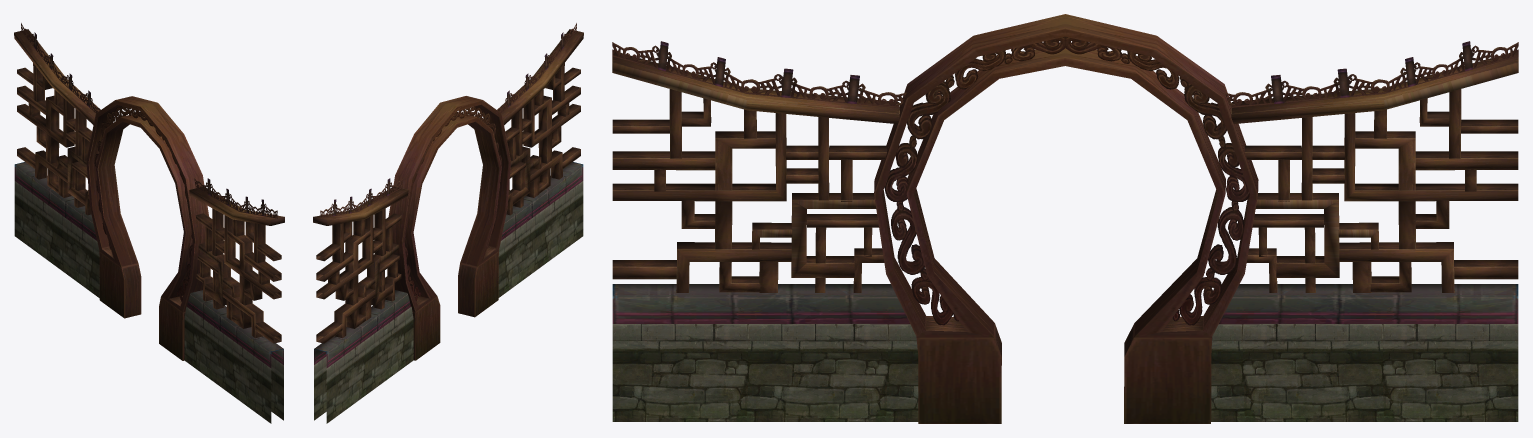
File: environment_building_menlan_02_a.FBX
The picture shows the model from 3 angles, left to right: view 1: azimuth 30°, elevation 25°; view 2: azimuth 150°, elevation 25°; view 3: azimuth 270°, elevation 25°; orthographic projection. The views are drawn at different scales.
Visible parts, largest first — view 1: environment_building_menlan_02_a1, environment_building_menlan_02_c1, environment_building_menlan_02_c02, environment_building_menlan_02_d1_ncl1_1, environment_building_menlan_02_d02, environment_building_menlan_02_d1, environment_building_menlan_02_d03, environment_building_menlan_02_b1, environment_building_menlan_02_b02; view 2: environment_building_menlan_02_a1, environment_building_menlan_02_c02, environment_building_menlan_02_c1, environment_building_menlan_02_d02, environment_building_menlan_02_d1_ncl1_1, environment_building_menlan_02_d03, environment_building_menlan_02_d1, environment_building_menlan_02_b02, environment_building_menlan_02_b1; view 3: environment_building_menlan_02_a1, environment_building_menlan_02_c1, environment_building_menlan_02_c02, environment_building_menlan_02_d02, environment_building_menlan_02_d1_ncl1_1, environment_building_menlan_02_d03, environment_building_menlan_02_d1, environment_building_menlan_02_b1, environment_building_menlan_02_b02.
Boxes of the visible parts, box(x1,y1,x2,y2) form: environment_building_menlan_02_a1: box(86, 96, 209, 360); environment_building_menlan_02_c1: box(189, 186, 284, 343); environment_building_menlan_02_c02: box(14, 29, 100, 215); environment_building_menlan_02_d1_ncl1_1: box(184, 306, 283, 423); environment_building_menlan_02_d02: box(14, 181, 99, 297); environment_building_menlan_02_d1: box(187, 290, 283, 367); environment_building_menlan_02_d03: box(14, 162, 96, 240); environment_building_menlan_02_b1: box(194, 178, 277, 218); environment_building_menlan_02_b02: box(21, 23, 100, 112); environment_building_menlan_02_a1: box(388, 96, 510, 360); environment_building_menlan_02_c02: box(313, 186, 408, 343); environment_building_menlan_02_c1: box(497, 29, 583, 215); environment_building_menlan_02_d02: box(314, 306, 413, 423); environment_building_menlan_02_d1_ncl1_1: box(498, 181, 583, 297); environment_building_menlan_02_d03: box(314, 290, 410, 367); environment_building_menlan_02_d1: box(501, 162, 583, 240); environment_building_menlan_02_b02: box(320, 178, 403, 218); environment_building_menlan_02_b1: box(497, 23, 576, 113); environment_building_menlan_02_a1: box(874, 14, 1258, 423); environment_building_menlan_02_c1: box(612, 52, 899, 292); environment_building_menlan_02_c02: box(1231, 52, 1518, 292); environment_building_menlan_02_d02: box(1211, 324, 1518, 421); environment_building_menlan_02_d1_ncl1_1: box(612, 324, 918, 421); environment_building_menlan_02_d03: box(1219, 284, 1518, 324); environment_building_menlan_02_d1: box(612, 284, 909, 324); environment_building_menlan_02_b1: box(612, 41, 906, 107); environment_building_menlan_02_b02: box(1225, 41, 1518, 107).
Bounding box in the file's own units: 9.04 × 113 × 236.
